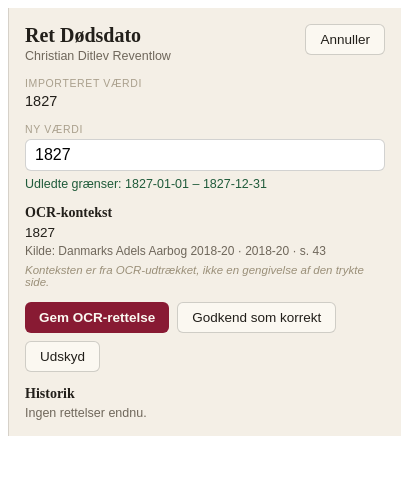
Test: OcrKildepanel — datoform › ændring af den rå dato efter en bekræftelse kræver bekræftelse igen
Replace the text in the field named "Ny rå dato" with "uigenkendelig A" at (205,155), box top-left (25, 139), bottom-right (385, 171)
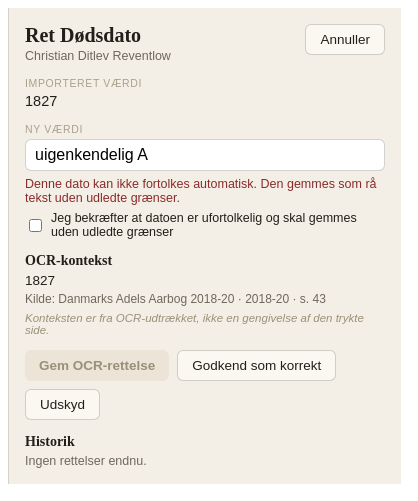
Click the checkbox labelled "bekræfter" at (36,225), box top-left (29, 218), bottom-right (42, 232)
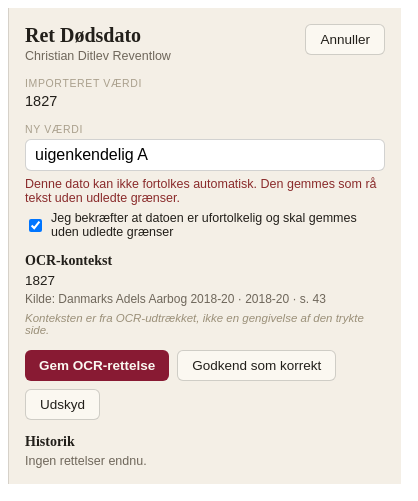
expect the button "Gem OCR-rettelse" is enabled: met, box top-left (25, 350), bottom-right (169, 381)
Replace the text in the field named "Ny rå dato" with "uigenkendelig B" at (205,155), box top-left (25, 139), bottom-right (385, 171)
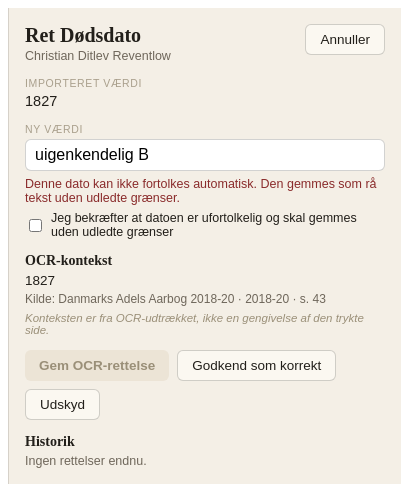
expect the button "Gem OCR-rettelse" is disabled: met, box top-left (25, 350), bottom-right (169, 381)
